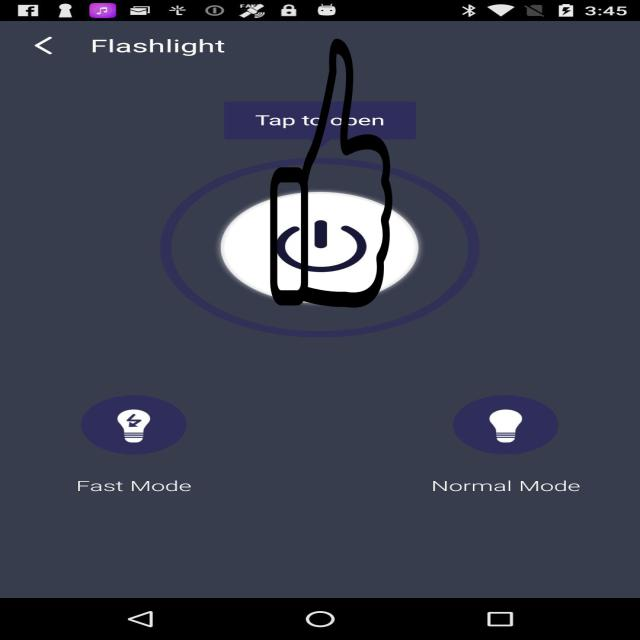privacy zuckering: (269, 39, 394, 308)
